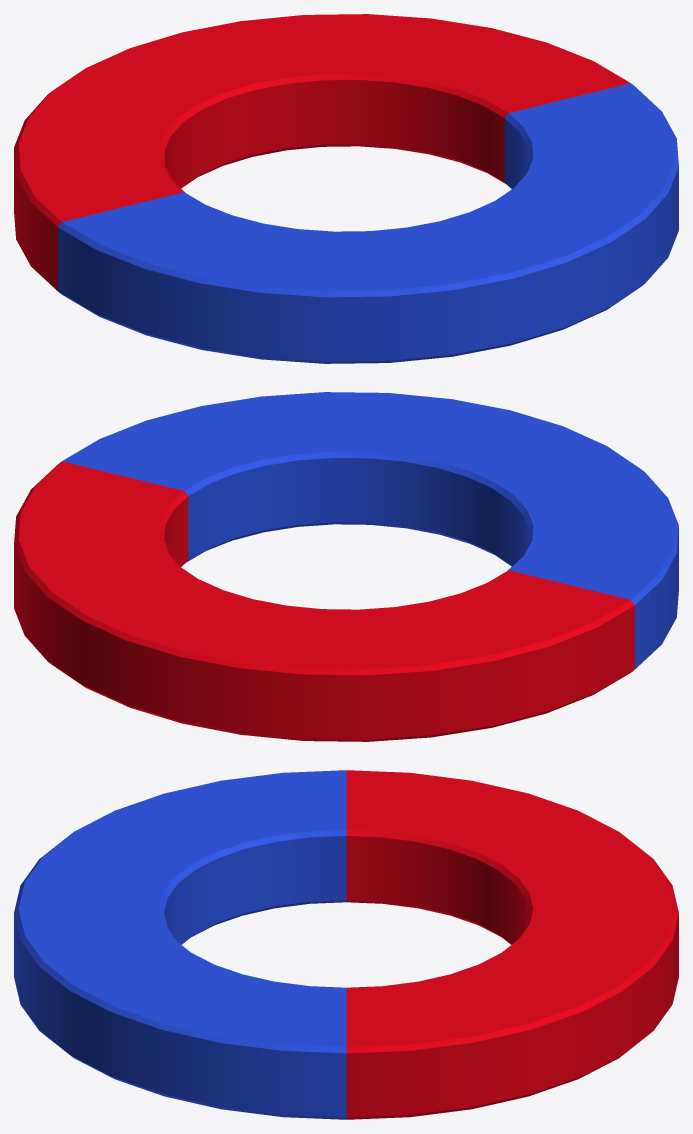
The model's file is Circle_Magnet.fbx.
3 views of the same model, one above another, from view 1: azimuth 30°, elevation 25°; view 2: azimuth 150°, elevation 25°; view 3: azimuth 270°, elevation 25° (orthographic).
Visible parts, largest first — view 1: Disk Magnet; view 2: Disk Magnet; view 3: Disk Magnet.
Boxes of the visible parts, <box> form: Disk Magnet: <box>14,14,678,363</box>; Disk Magnet: <box>14,392,678,741</box>; Disk Magnet: <box>14,770,678,1119</box>.
Bounding box in the file's own units: 660 × 79.5 × 660.
